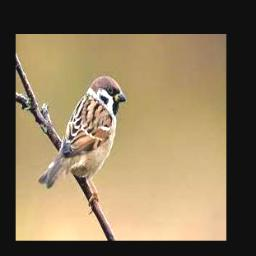Sparrow: (38, 76, 126, 209)
